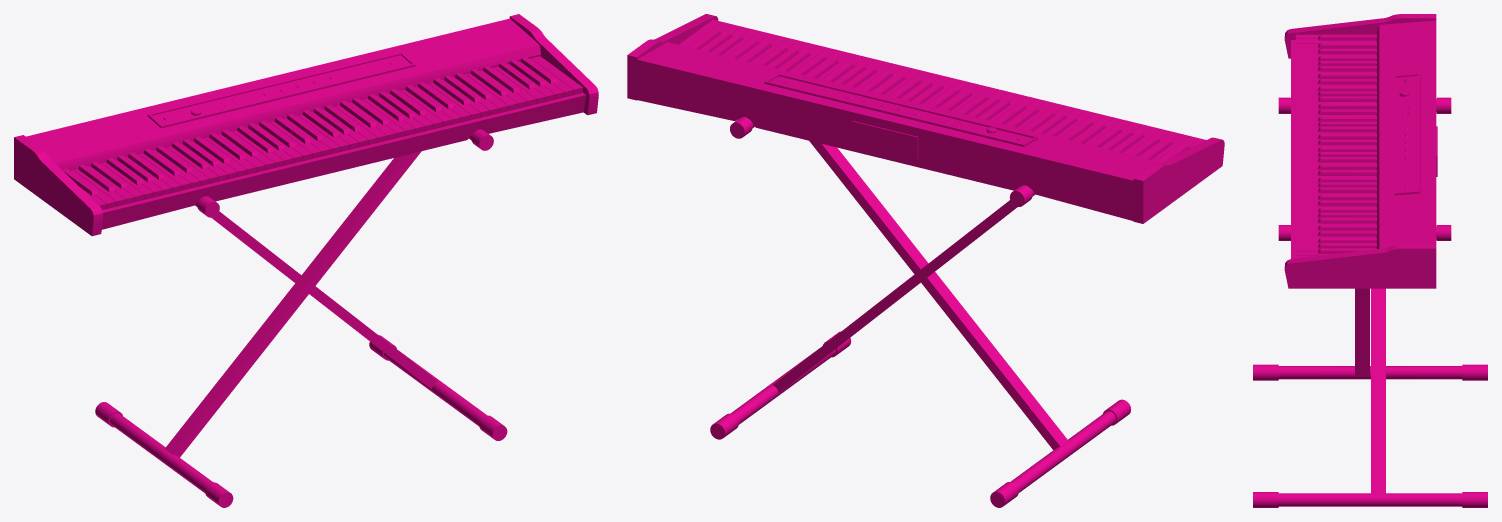
Rendered from Keyboard.fbx.
The picture shows the model from 3 angles, left to right: view 1: azimuth 30°, elevation 25°; view 2: azimuth 150°, elevation 25°; view 3: azimuth 270°, elevation 25°; orthographic projection. The views are drawn at different scales.
Visible parts, largest first — view 1: Cube.011; view 2: Cube.011; view 3: Cube.011.
Part boxes in pixels (left/top/right/bottom): Cube.011: left=14, top=14, right=598, bottom=507; Cube.011: left=627, top=14, right=1224, bottom=507; Cube.011: left=1253, top=14, right=1487, bottom=507.
Bounding box in the file's own units: 8399 × 5216 × 3553.
